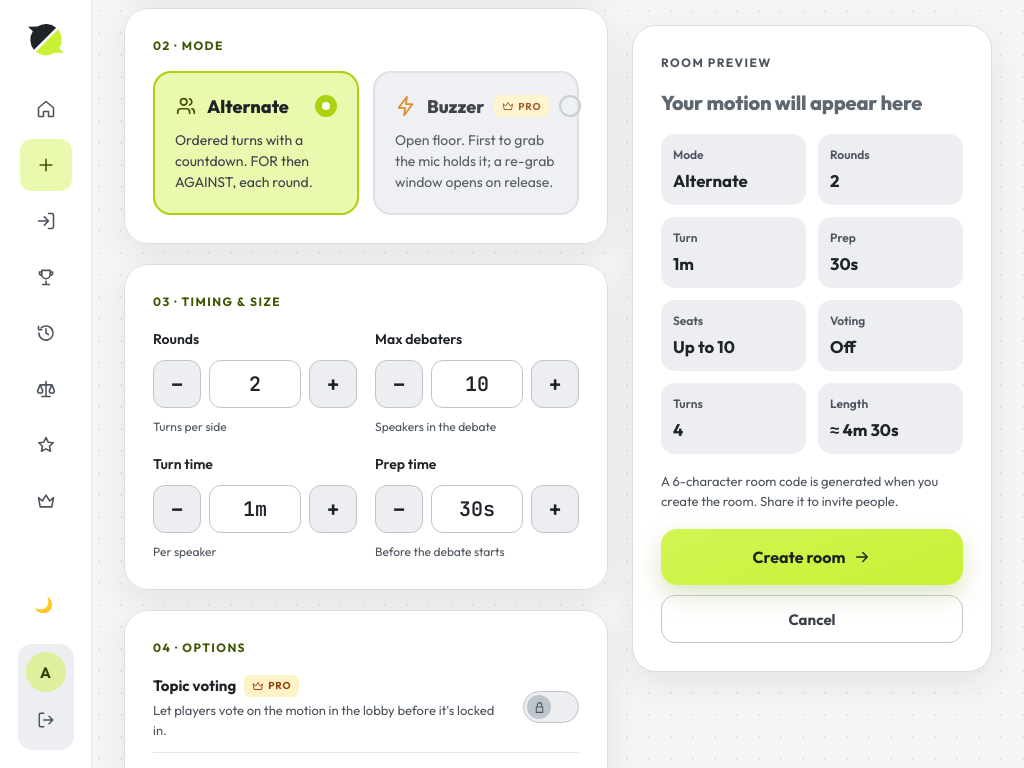
Test: CreateRoom › Stepper component › clicking + on Rounds stepper increments the round count
(page scrolled)
Click the button named "More rounds".
click(333, 384)  # box [309, 360, 357, 408]
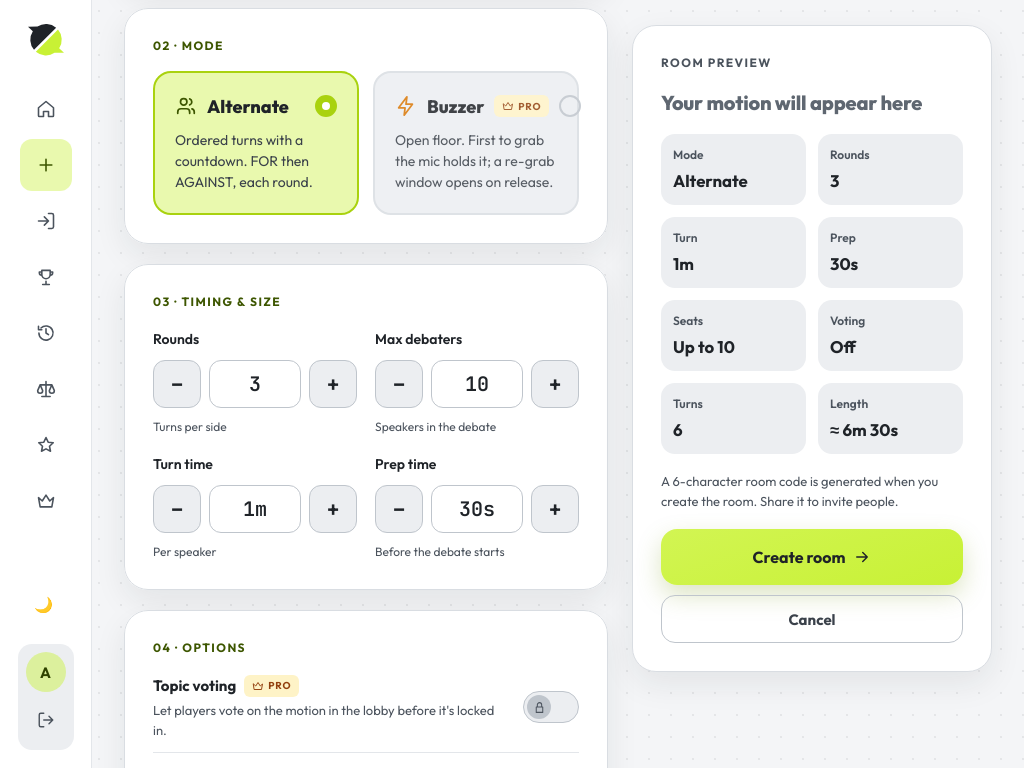
Check: the text "3" below "Max debaters" is shown, box [249, 371, 261, 397]
Check: the text "6" is shown, box [673, 419, 683, 440]
